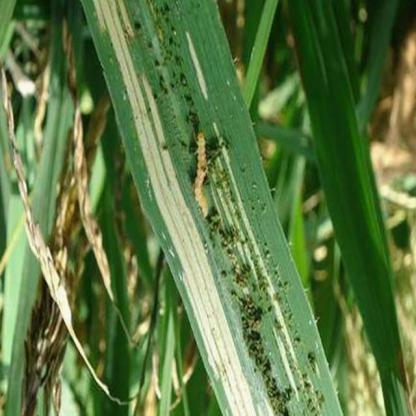leaf-folder: (186, 122, 225, 228)
